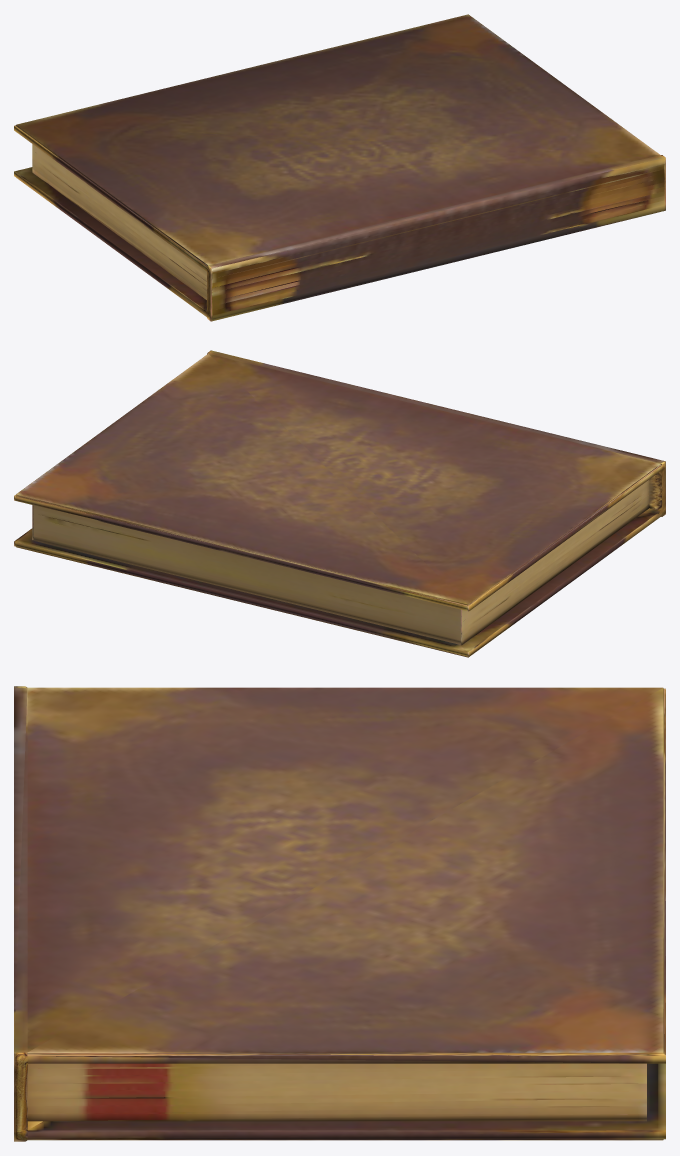
File: _0614043112_texture.fbx
3 renders of one model, top to bottom at view 1: azimuth 30°, elevation 25°; view 2: azimuth 150°, elevation 25°; view 3: azimuth 270°, elevation 25°, orthographic. The views are drawn at different scales.
Visible parts, largest first — view 1: Mesh_0; view 2: Mesh_0; view 3: Mesh_0.
Boxes of the visible parts, x1,y1,x2,y2 form: Mesh_0: (14,14,665,321); Mesh_0: (14,350,665,657); Mesh_0: (14,686,665,1141).
Size of the model in its own units: 200 by 22.25 by 150.
1 material, 1 textured.
